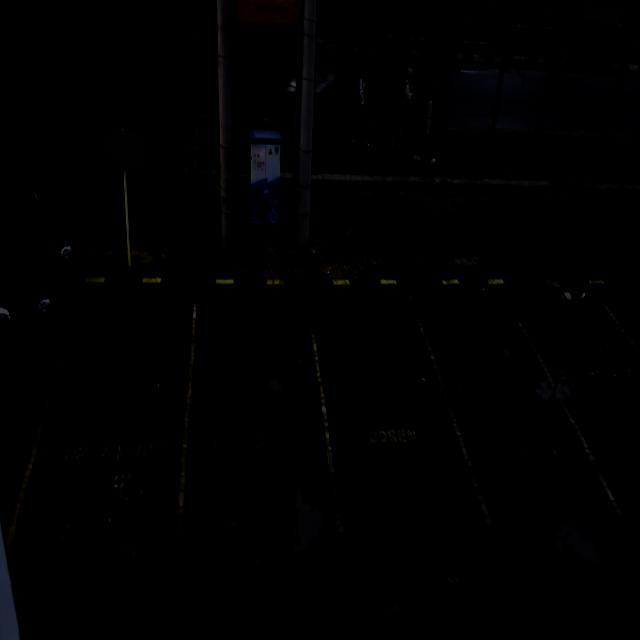empty: (36, 281, 192, 564), (184, 291, 340, 554), (321, 283, 457, 535), (439, 277, 556, 529), (548, 282, 639, 524)
